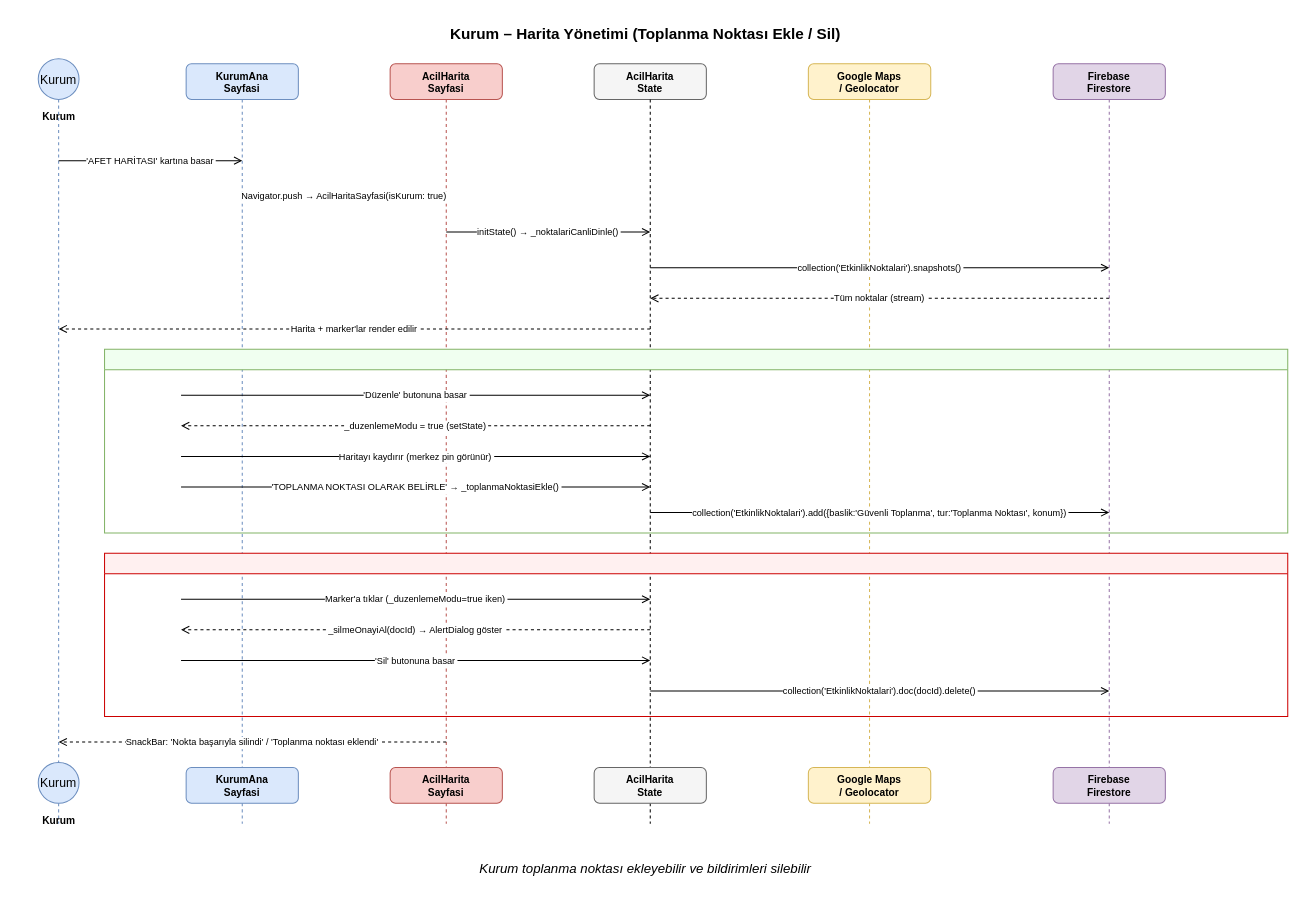
The diagram is 1306 pixels wide and 902 high, and some of its shapes have lost their labels. Each missing label, with the centre of its shape:
"alt [Nokta / Bildirim Sil]" goes at (x=696, y=634).
"alt [Toplanma Noktası Ekle]" goes at (x=696, y=440).
